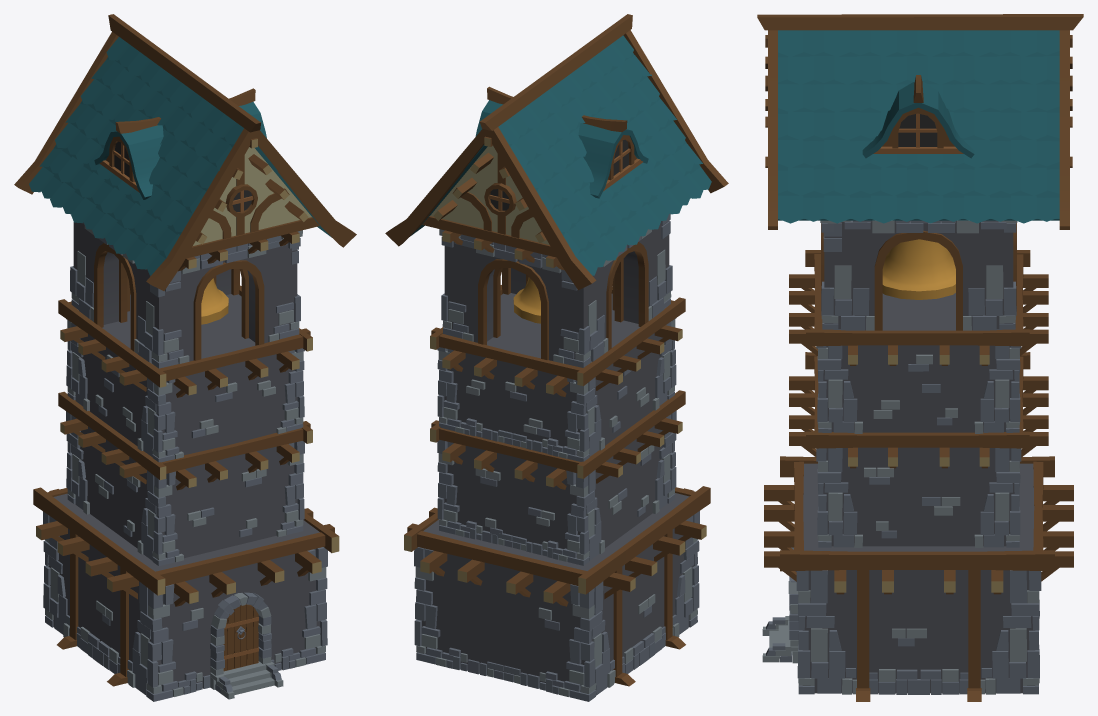
Rendered from Bell_Tower.glb.
The picture shows the model from 3 angles, left to right: view 1: azimuth 30°, elevation 25°; view 2: azimuth 150°, elevation 25°; view 3: azimuth 270°, elevation 25°; orthographic projection. The views are drawn at different scales.
Parts seen in each view (by area): view 1: Bell_Tower; view 2: Bell_Tower; view 3: Bell_Tower.
Boxes of the visible parts, x1,y1,x2,y2 form: Bell_Tower: (14, 14, 356, 701); Bell_Tower: (385, 14, 728, 701); Bell_Tower: (757, 14, 1083, 701).
Size of the model in its own units: 1.94 by 4.76 by 2.23.
1 material, 1 textured.
